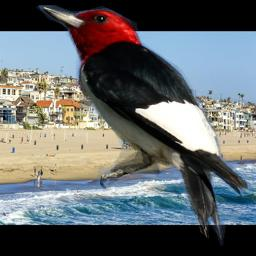Woodpecker: (35, 5, 256, 246)
